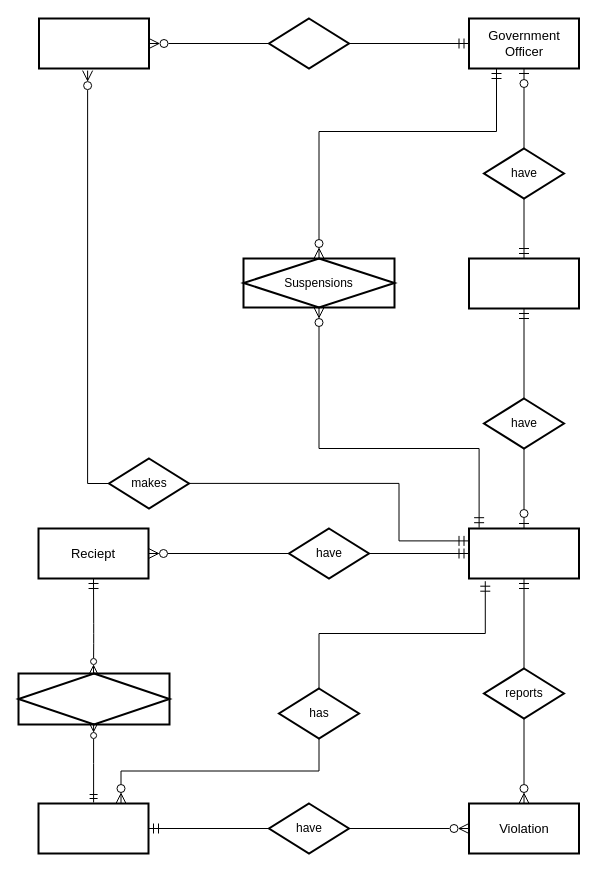
Some shapes in this 597 by 871 pixel diagram are drawn without their labels. Here are the shapes that lost their labels. From the top down, the box of each, then its label:
(38, 17, 150, 69): Appeal
(268, 17, 350, 69): handles
(468, 257, 580, 309): Custom User
(468, 527, 580, 579): Citizen
(17, 672, 170, 725): Motor Bike Receipt
(37, 802, 149, 854): Motor Bike
